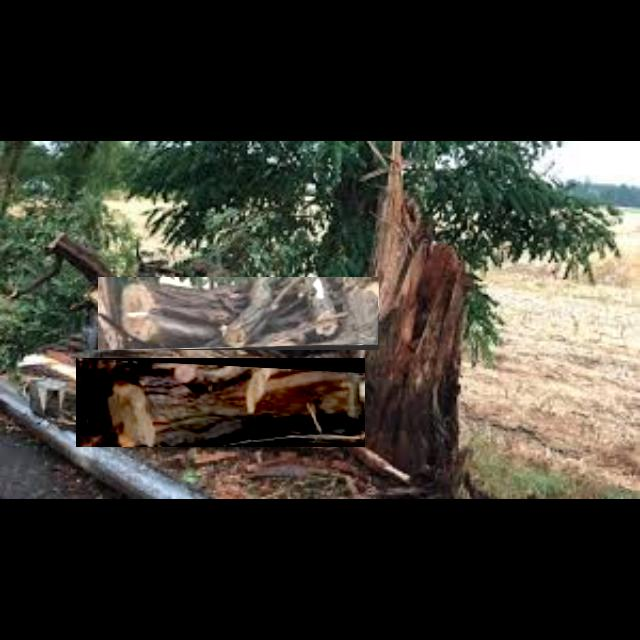Fallen Tree: (76, 358, 366, 448), (98, 277, 380, 351)
